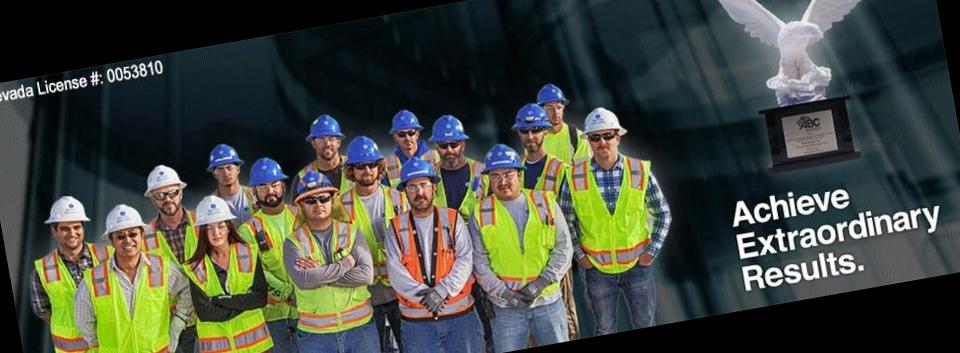Vest: (474, 182, 570, 310), (571, 154, 658, 278), (186, 237, 271, 353), (287, 212, 365, 330), (392, 212, 473, 320), (92, 257, 183, 353), (37, 253, 105, 353)
